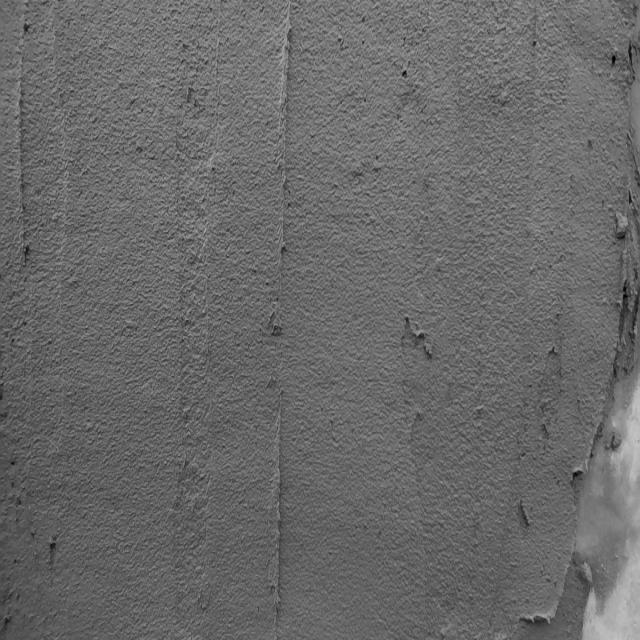trowels marks: (270, 8, 298, 640), (14, 14, 35, 267)
